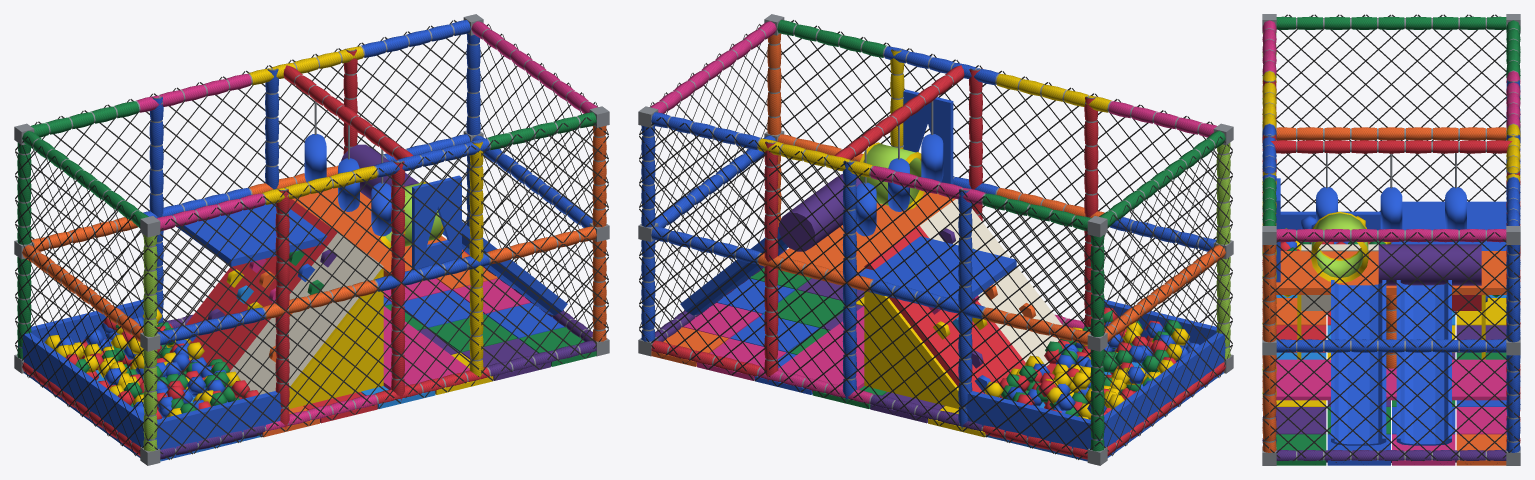
The picture shows the model from 3 angles, left to right: view 1: azimuth 30°, elevation 25°; view 2: azimuth 150°, elevation 25°; view 3: azimuth 270°, elevation 25°; orthographic projection. The views are drawn at different scales.
Visible parts, largest first — view 1: vinil_tubo, plataforma, rede, tatame, bolinhas, metal, escorregador_plastico; view 2: vinil_tubo, plataforma, rede, tatame, bolinhas, metal, escorregador_plastico; view 3: vinil_tubo, plataforma, rede, escorregador_plastico, tatame, metal, bolinhas.
Boxes of the visible parts, x1,y1,x2,y2 form: vinil_tubo: [17, 20, 606, 459]; plataforma: [18, 134, 469, 461]; rede: [15, 20, 608, 459]; tatame: [191, 267, 596, 437]; bolinhas: [44, 308, 259, 419]; metal: [14, 14, 609, 465]; escorregador_plastico: [190, 221, 567, 362]; vinil_tubo: [641, 20, 1230, 459]; plataforma: [778, 89, 1229, 461]; rede: [639, 20, 1232, 459]; tatame: [651, 267, 1056, 437]; bolinhas: [984, 307, 1199, 419]; metal: [638, 14, 1233, 465]; escorregador_plastico: [680, 227, 1036, 393]; vinil_tubo: [1262, 16, 1520, 463]; plataforma: [1276, 178, 1506, 400]; rede: [1263, 14, 1519, 464]; escorregador_plastico: [1331, 280, 1451, 445]; tatame: [1276, 298, 1506, 465]; metal: [1262, 14, 1520, 465]; bolinhas: [1280, 215, 1499, 302].
Bounding box in the file's own units: 4 × 2 × 2.
Materials: 7 (6 with a texture image).
